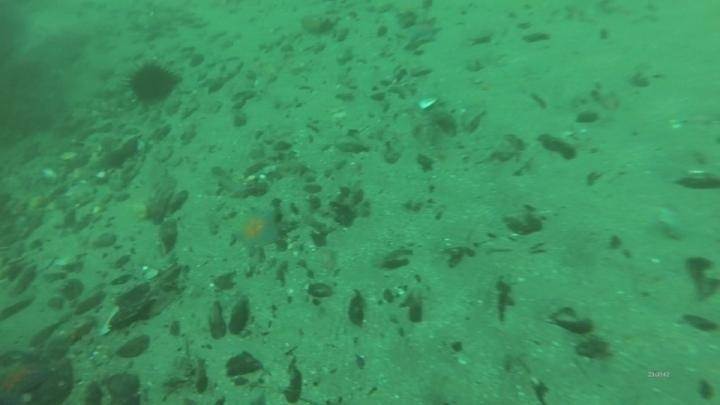echinus: (125, 58, 181, 106)
starfish: (228, 203, 285, 255), (0, 352, 54, 405), (397, 19, 443, 53)
